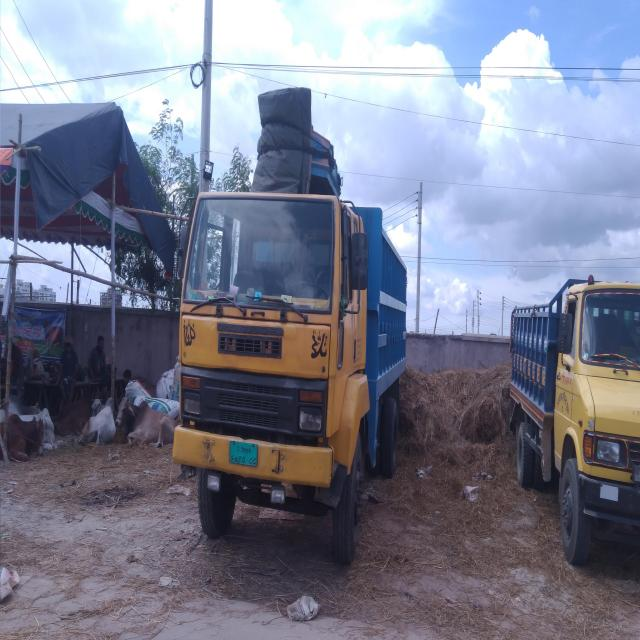truck: (170, 110, 418, 545), (503, 282, 640, 602)
